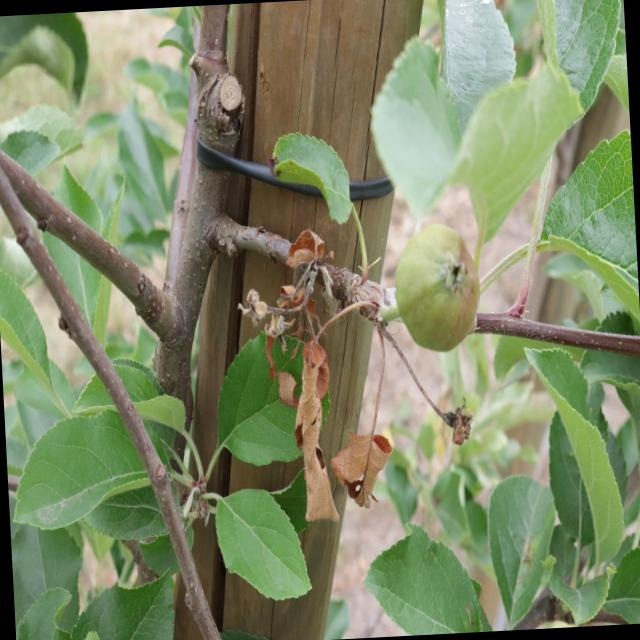-FireBlight-: (300, 331, 338, 524), (278, 239, 332, 336), (340, 435, 388, 505)
